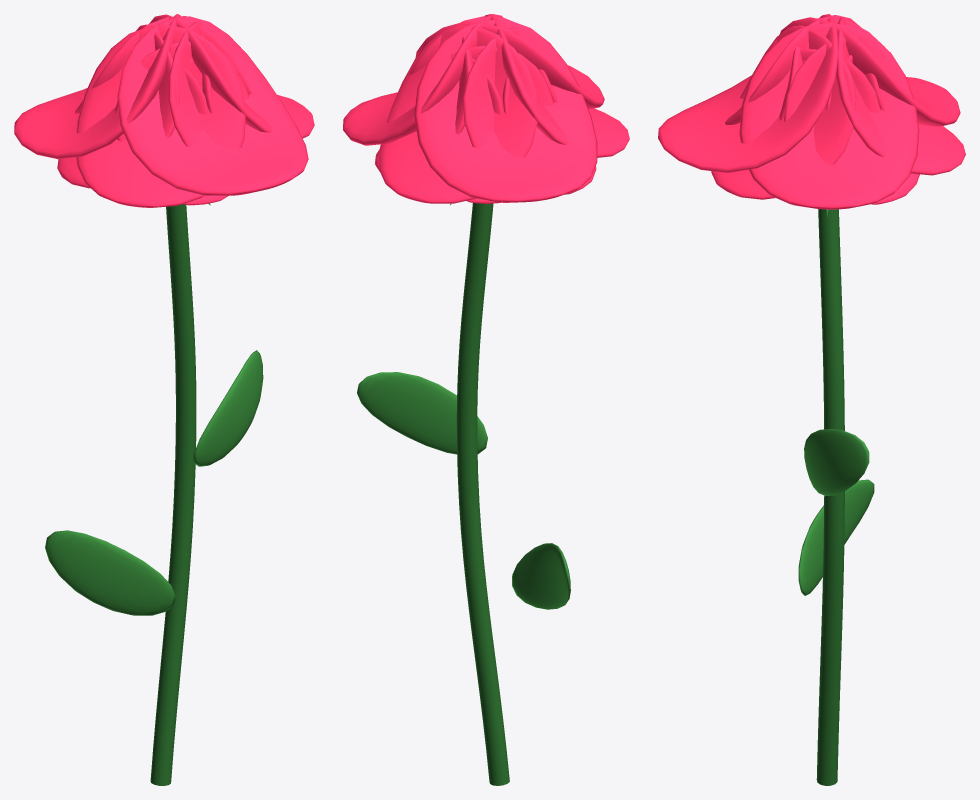
File: rose.glb
3 views of the same model, side by side, from view 1: azimuth 30°, elevation 25°; view 2: azimuth 150°, elevation 25°; view 3: azimuth 270°, elevation 25° (orthographic).
Visible parts, largest first — view 1: RosePetals, RoseStem, RoseLeaves; view 2: RosePetals, RoseStem, RoseLeaves; view 3: RosePetals, RoseStem, RoseLeaves.
Boxes of the visible parts, box(x1,y1,x2,y2) form: RosePetals: box(14, 14, 314, 207); RoseStem: box(150, 203, 210, 785); RoseLeaves: box(45, 350, 263, 615); RosePetals: box(343, 14, 629, 203); RoseStem: box(450, 203, 509, 785); RoseLeaves: box(357, 372, 570, 609); RosePetals: box(658, 14, 965, 209); RoseStem: box(816, 209, 844, 785); RoseLeaves: box(798, 428, 874, 595).
Bounding box in the file's own units: 0.7971 × 2.26 × 0.8231.
